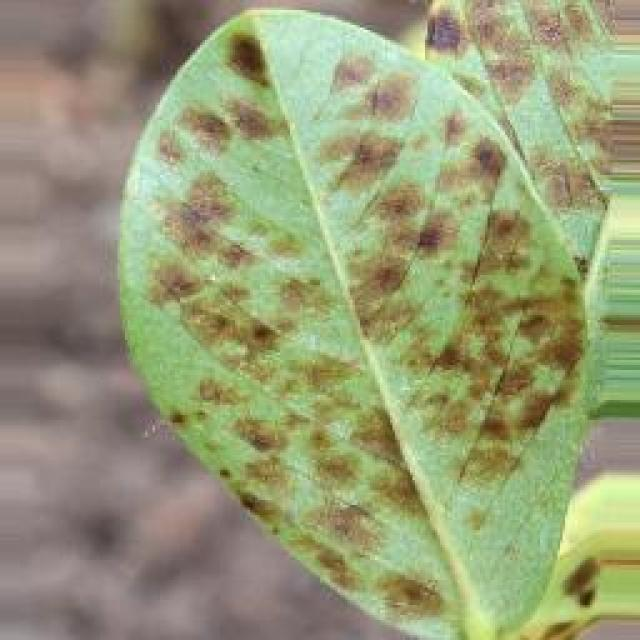Whitefly: (122, 0, 616, 560)
